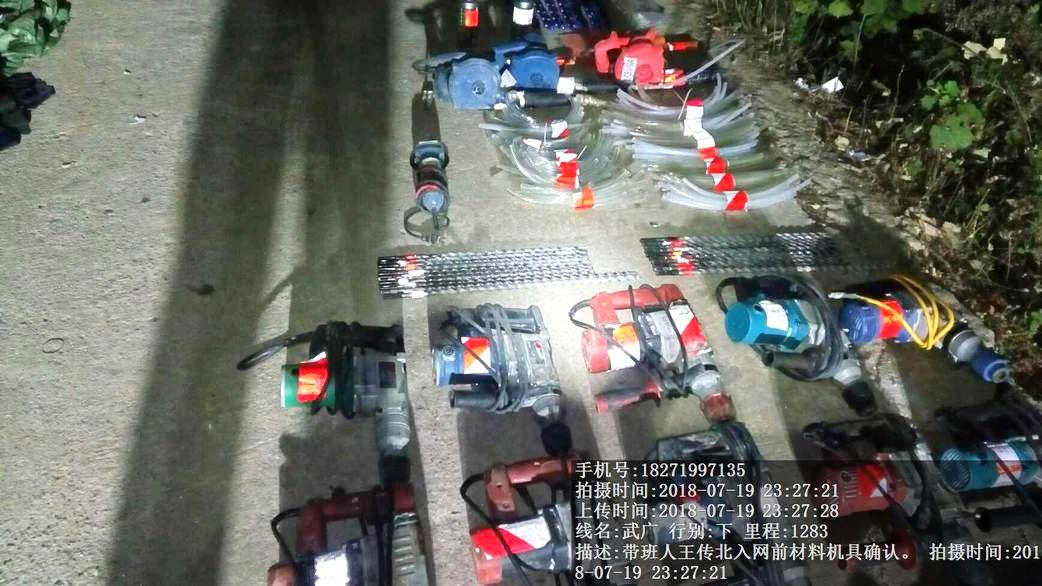DZ: (269, 320, 420, 472), (561, 284, 724, 422), (438, 301, 577, 446), (717, 277, 871, 400), (865, 284, 1013, 392)
